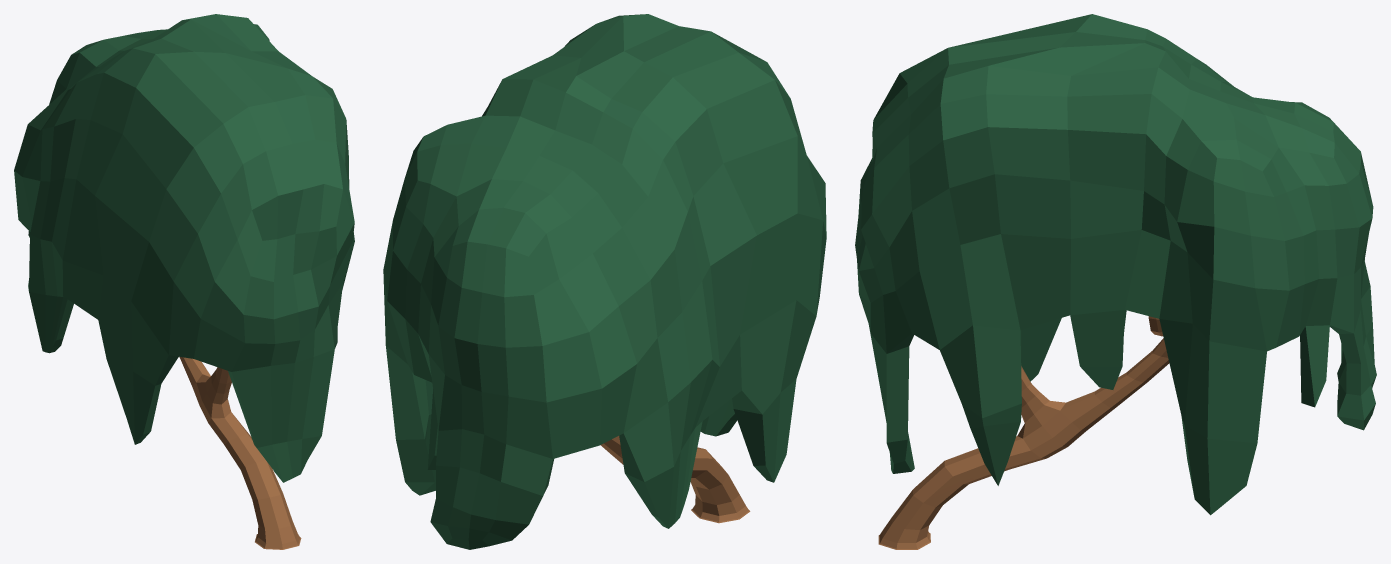
Rendered from Willow_2.glb.
The picture shows the model from 3 angles, left to right: view 1: azimuth 30°, elevation 25°; view 2: azimuth 150°, elevation 25°; view 3: azimuth 270°, elevation 25°; orthographic projection. The views are drawn at different scales.
Parts seen in each view (by area): view 1: Willow_2_Cube.011; view 2: Willow_2_Cube.011; view 3: Willow_2_Cube.011.
Boxes of the visible parts, x1,y1,x2,y2 form: Willow_2_Cube.011: (14,14,354,549); Willow_2_Cube.011: (383,14,826,549); Willow_2_Cube.011: (855,14,1376,549).
Size of the model in its own units: 1.95 by 3.32 by 3.11.
